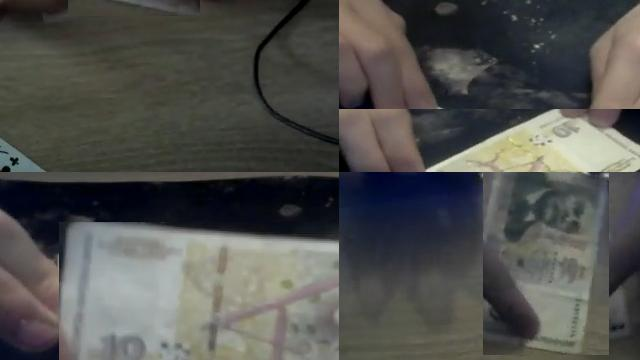10leva: (59, 222, 339, 360), (483, 172, 609, 355), (427, 109, 640, 172)
